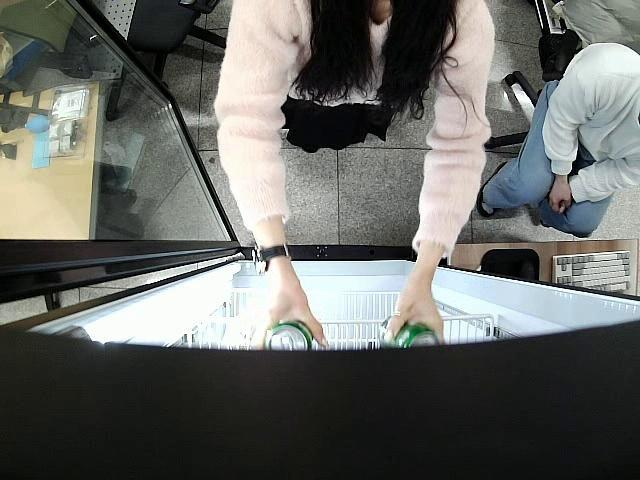12_chilsungCider: (380, 316, 440, 350), (262, 320, 315, 350)
